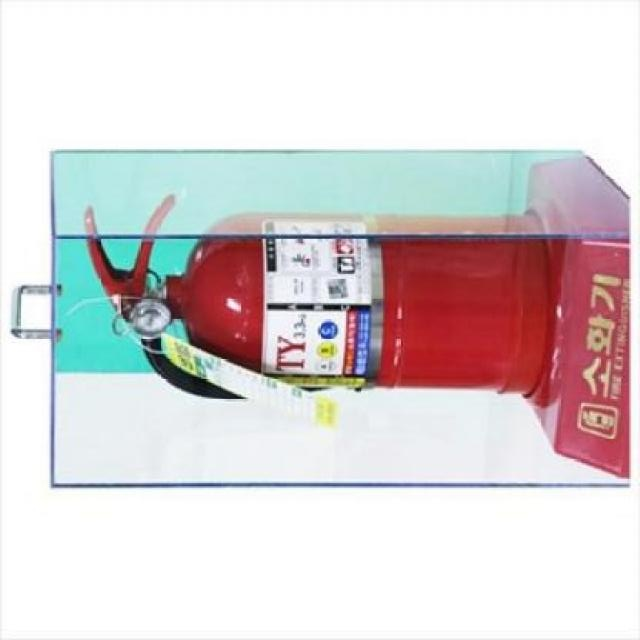fire extinguisher: (83, 195, 549, 401)
